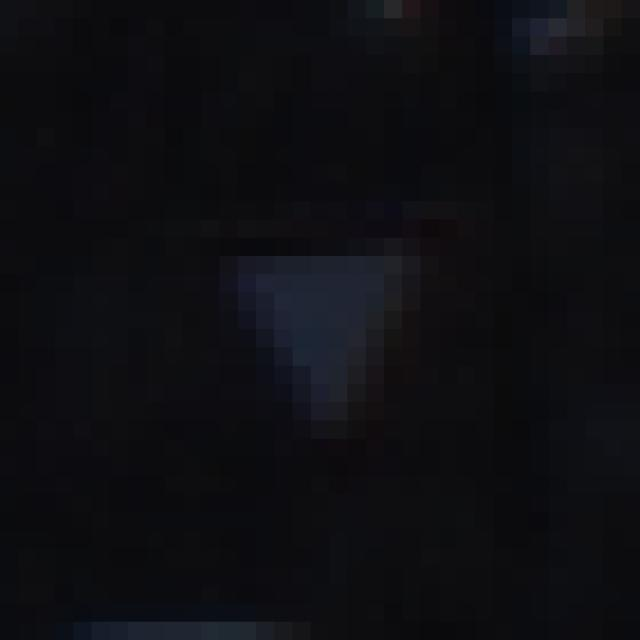Give Way: (111, 111, 550, 550)
